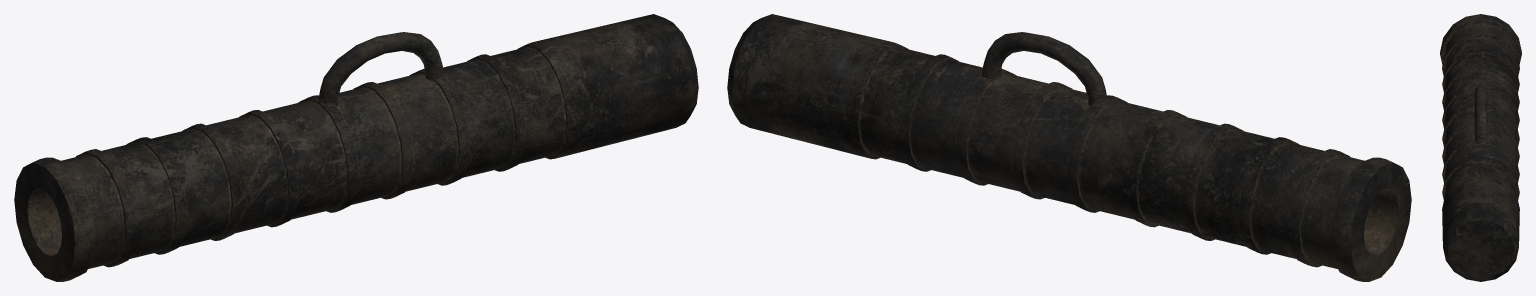
Rendered from SM_Hyeonja_Chongtong_Gun.fbx.
The picture shows the model from 3 angles, left to right: view 1: azimuth 30°, elevation 25°; view 2: azimuth 150°, elevation 25°; view 3: azimuth 270°, elevation 25°; orthographic projection. The views are drawn at different scales.
Parts seen in each view (by area): view 1: SM_Hyeonja_Chongtong_Gun; view 2: SM_Hyeonja_Chongtong_Gun; view 3: SM_Hyeonja_Chongtong_Gun.
Part boxes in pixels (left/top/right/bottom): SM_Hyeonja_Chongtong_Gun: left=14, top=14, right=698, bottom=281; SM_Hyeonja_Chongtong_Gun: left=727, top=14, right=1411, bottom=281; SM_Hyeonja_Chongtong_Gun: left=1440, top=14, right=1521, bottom=281.
Size of the model in its own units: 78.5 by 13.58 by 19.22.
